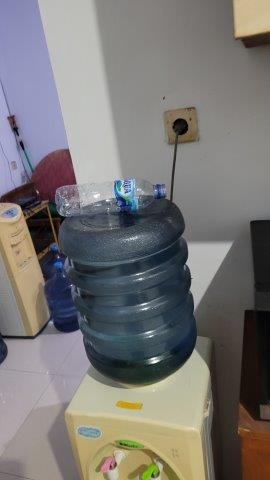botolplastik: (54, 176, 168, 218)
